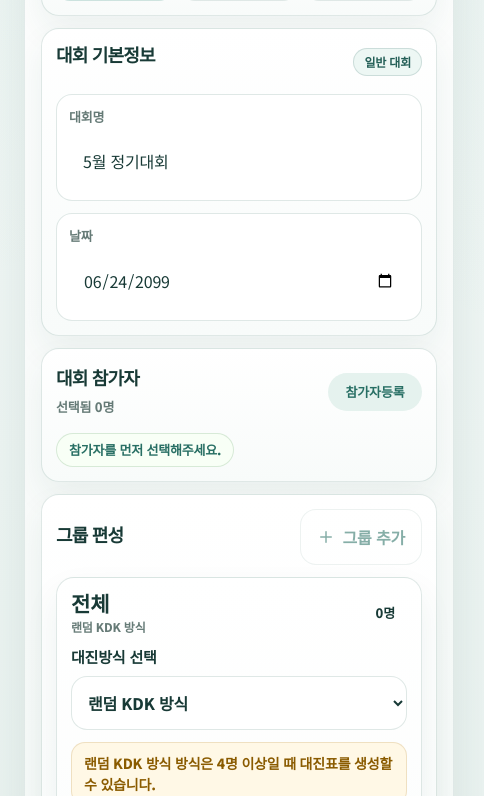
Test: TournamentManageClient save timing › toggles gender bulk selection off when pressed again
(page scrolled)
Click the button "대회 참가자 선택됨 0명 참가자등록".
click(97, 379)  # box [56,363,422,421]
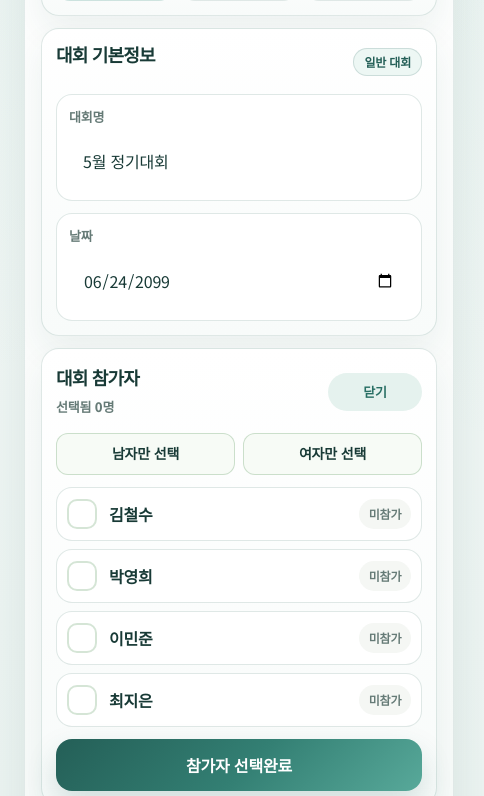
Click the button "남자만 선택".
click(146, 454)  # box [56,433,235,475]
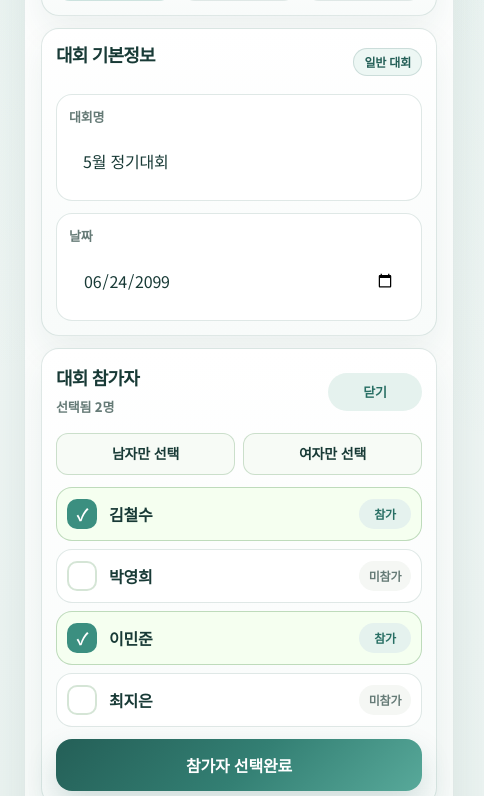
Click the button "남자만 선택".
click(146, 454)  # box [56,433,235,475]
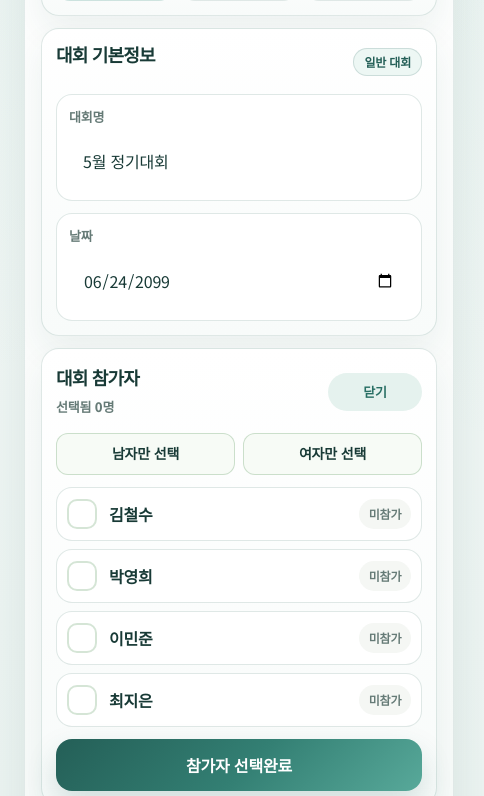
Click the button "참가자 선택완료".
click(239, 765)  # box [56,739,422,791]
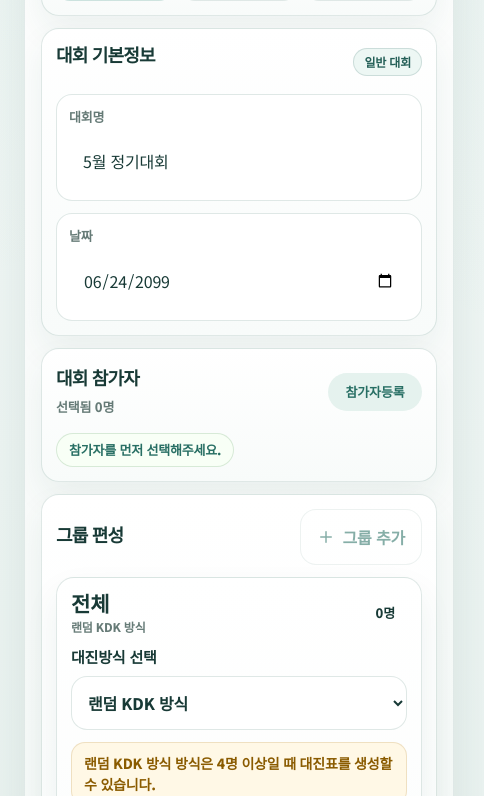
Expected: the button with class "selected-summary" no longer shows "김철수"
Expected: the button with class "selected-summary" no longer shows "이민준"
